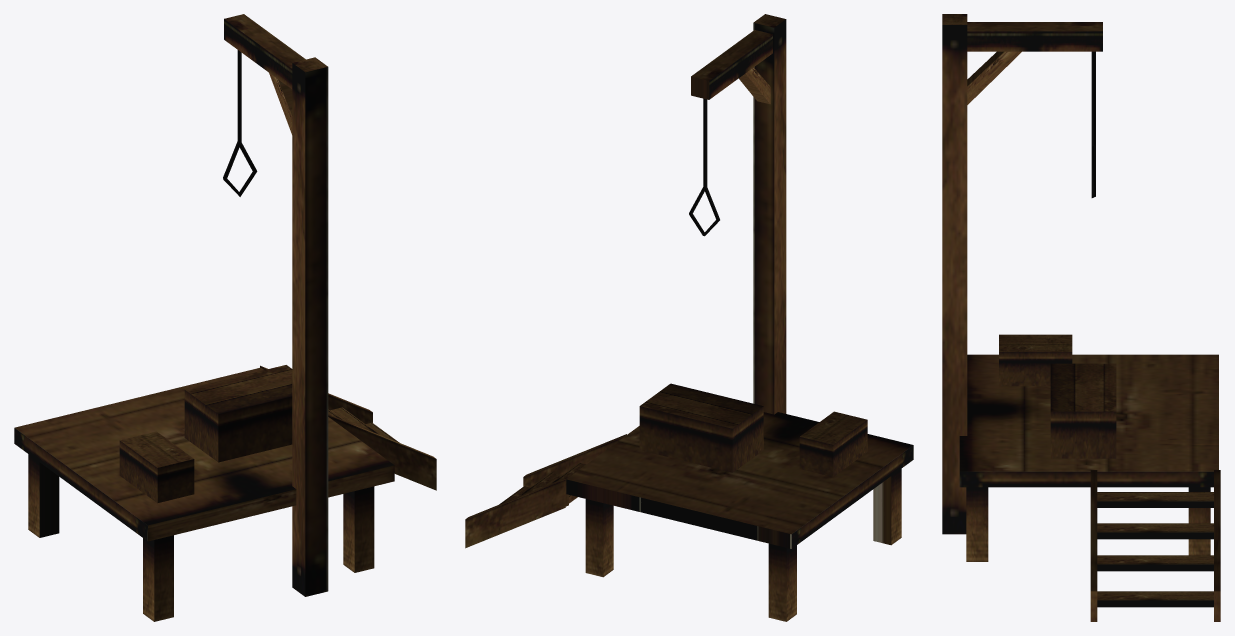
The model's file is Hanging01.obj.
3 renders of one model, left to right at view 1: azimuth 30°, elevation 25°; view 2: azimuth 150°, elevation 25°; view 3: azimuth 270°, elevation 25°, orthographic. The views are drawn at different scales.
Visible parts, largest first — view 1: Mesh_0; view 2: Mesh_0; view 3: Mesh_0.
Boxes of the visible parts, x1,y1,x2,y2 form: Mesh_0: (14, 14, 436, 621); Mesh_0: (465, 14, 913, 621); Mesh_0: (942, 14, 1220, 621).
Size of the model in its own units: 3.01 by 4.24 by 2.1.
1 material, 1 textured.
